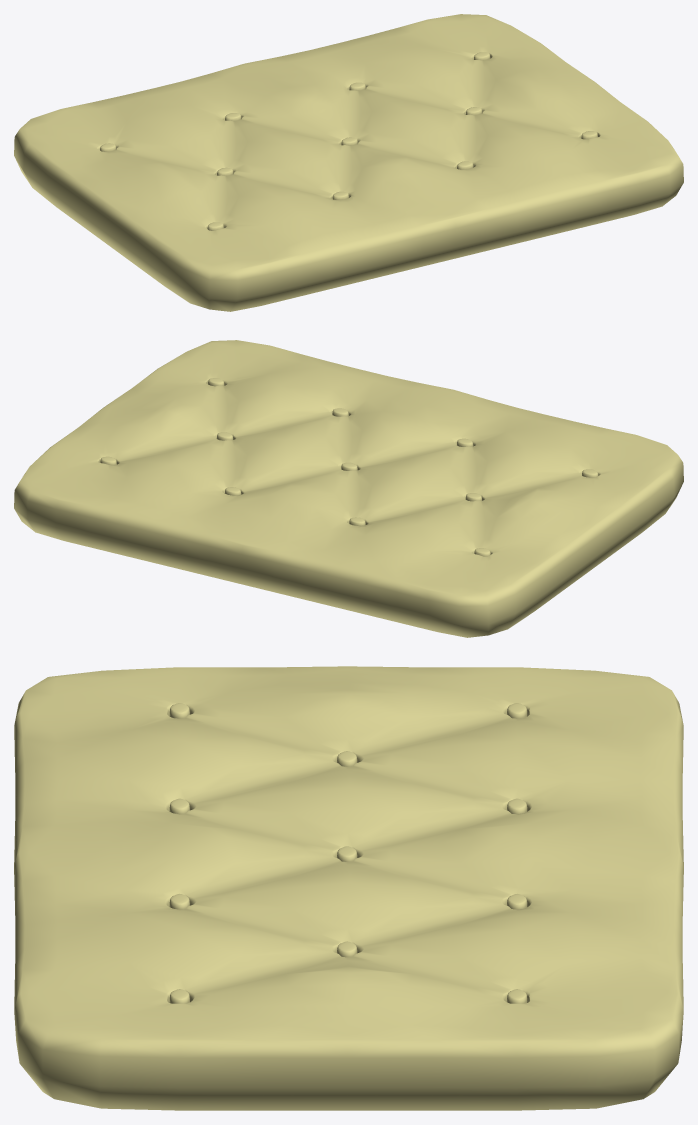
Rendered from Colchão.fbx.
The picture shows the model from 3 angles, top to bottom: view 1: azimuth 30°, elevation 25°; view 2: azimuth 150°, elevation 25°; view 3: azimuth 270°, elevation 25°; orthographic projection. The views are drawn at different scales.
Visible parts, largest first — view 1: Cube; view 2: Cube; view 3: Cube.
Boxes of the visible parts, x1=… form: Cube: x1=14, y1=14, x2=683, y2=311; Cube: x1=14, y1=340, x2=683, y2=637; Cube: x1=14, y1=666, x2=683, y2=1110.
Size of the model in its own units: 1299 by 174 by 970.
